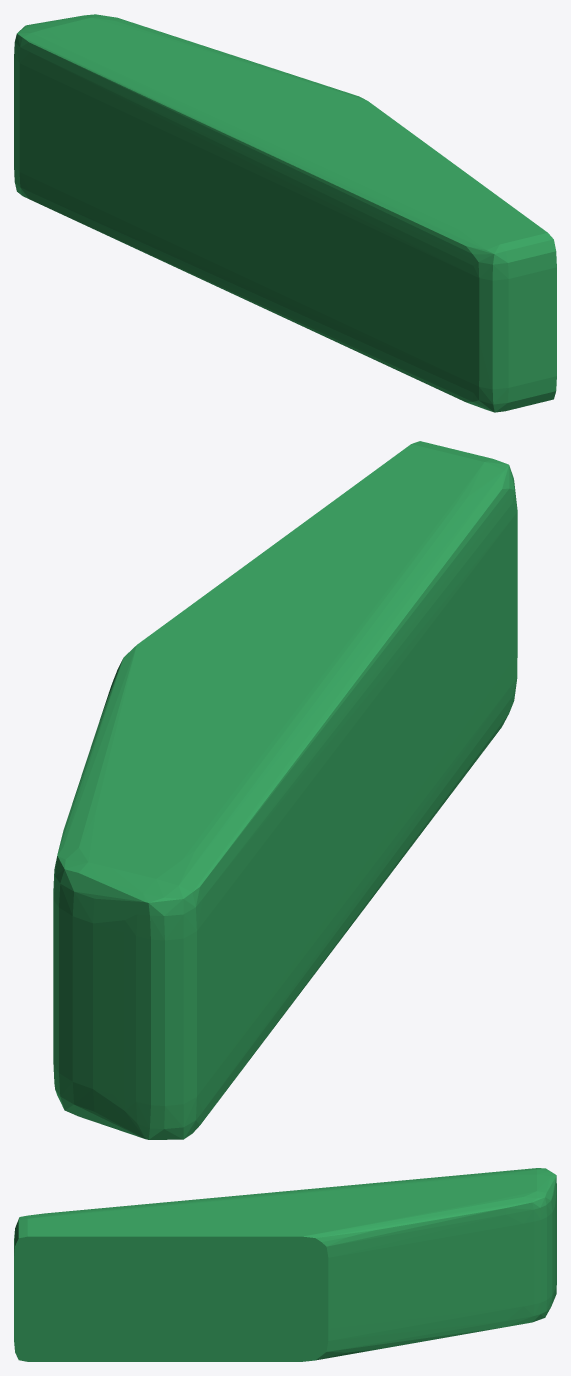
File: left_hip_pitch_link_part_10.obj
3 views of the same model, one above another, from view 1: azimuth 30°, elevation 25°; view 2: azimuth 150°, elevation 25°; view 3: azimuth 270°, elevation 25° (orthographic). The views are drawn at different scales.
Bounding box in the file's own units: 0.0214 × 0.0173 × 0.0681.
